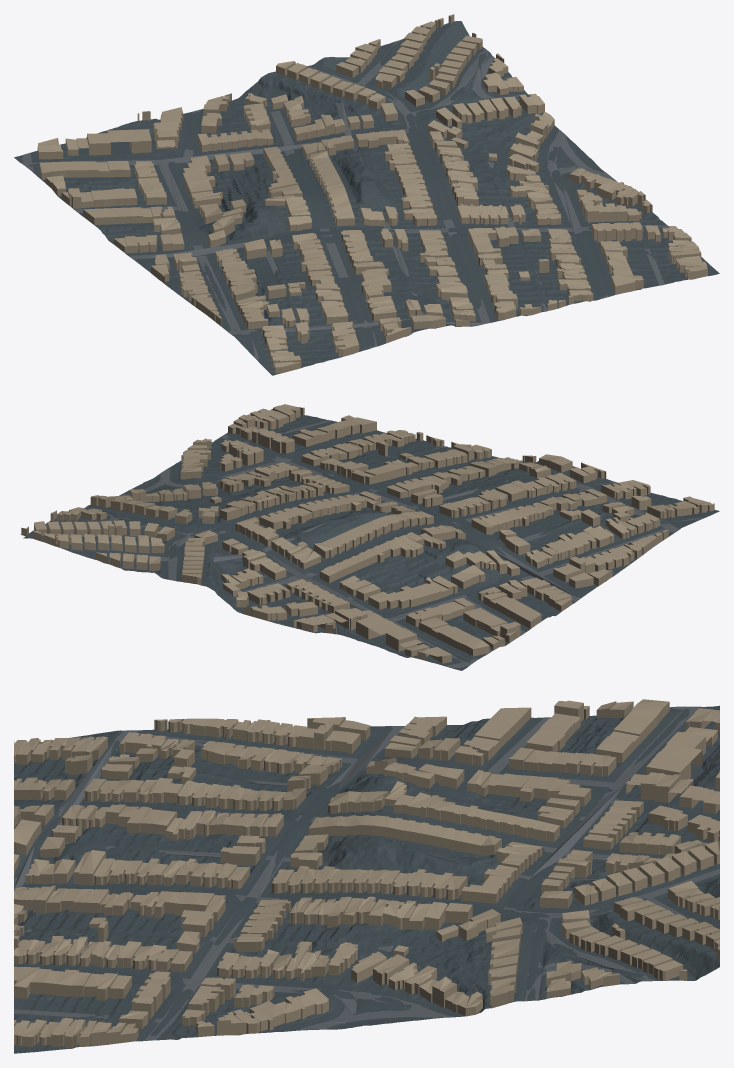
Rendered from epsg26910-1430-10869.lod0.glb.
The picture shows the model from 3 angles, top to bottom: view 1: azimuth 30°, elevation 25°; view 2: azimuth 150°, elevation 25°; view 3: azimuth 270°, elevation 25°; orthographic projection. The views are drawn at different scales.
Visible parts, largest first — view 1: epsg26910-1430-10869-lod0; view 2: epsg26910-1430-10869-lod0; view 3: epsg26910-1430-10869-lod0.
Part boxes in pixels (x1=…): epsg26910-1430-10869-lod0: x1=14, y1=14, x2=719, y2=375; epsg26910-1430-10869-lod0: x1=20, y1=404, x2=719, y2=670; epsg26910-1430-10869-lod0: x1=14, y1=699, x2=719, y2=1053.
Size of the model in its own units: 384 by 59.27 by 384.
